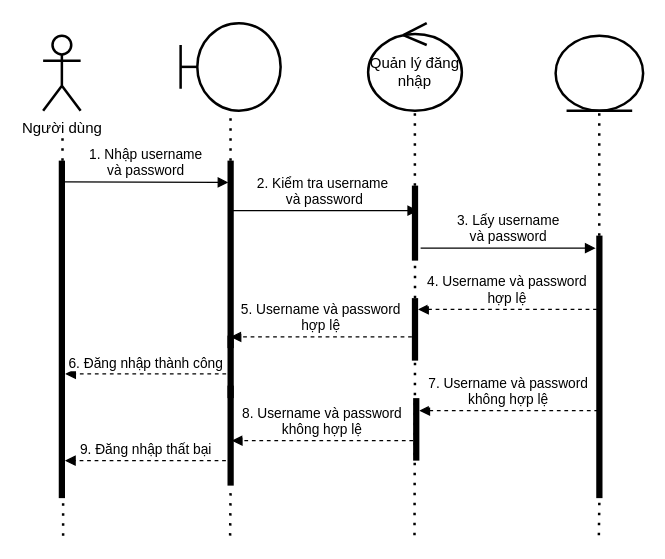
The diagram is 665 pixels wide and 559 high, and some of its shapes have lost their labels. Each missing label, with the centre of its shape:
Form đăng nhập: point 230,66
Tài khoản: point 599,72
